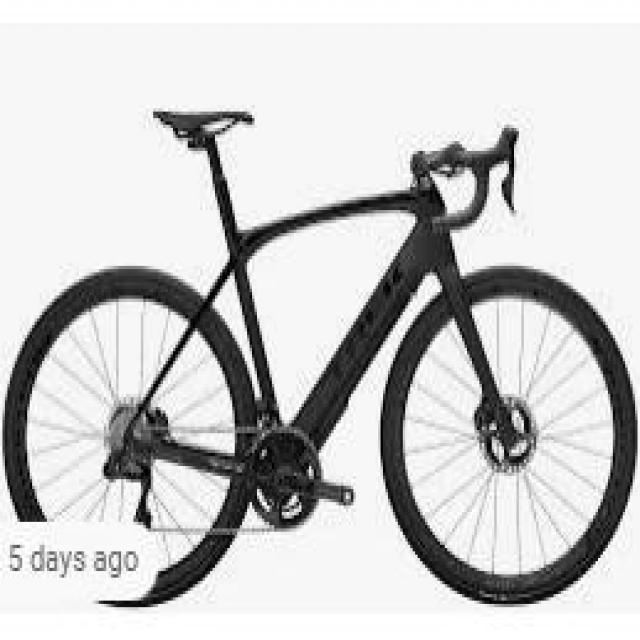bicycle: (5, 98, 638, 604)
